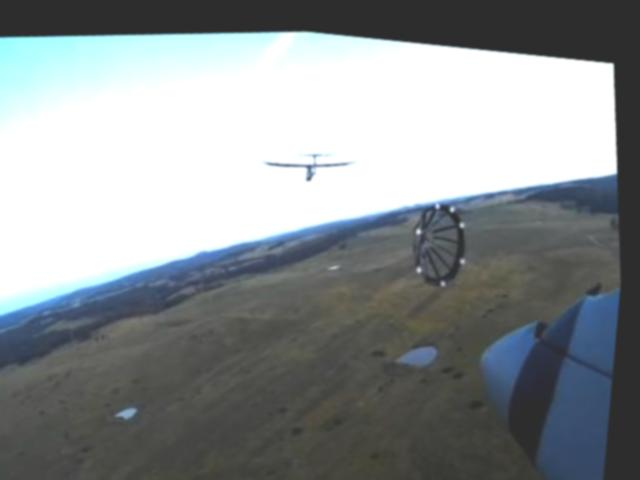uav: (255, 128, 368, 188)
